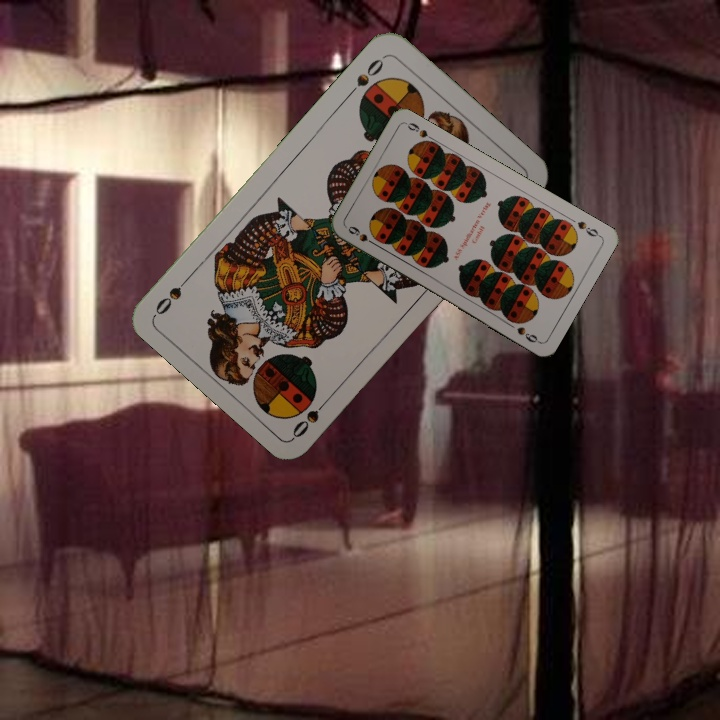S9: (344, 222, 380, 249), (573, 217, 604, 240)
SO: (288, 392, 334, 441), (343, 54, 387, 100)
